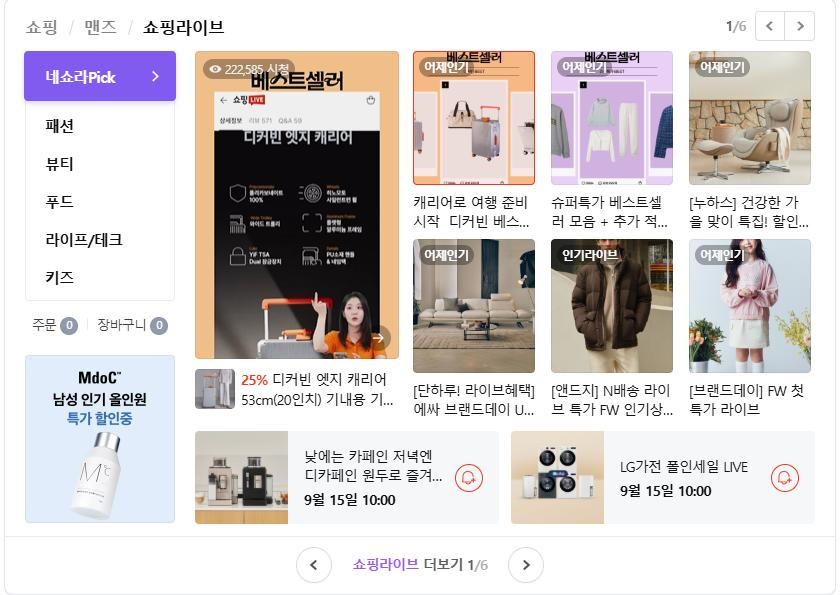button: (38, 45, 178, 96), (48, 102, 123, 138), (43, 228, 132, 253), (754, 13, 817, 43), (138, 13, 218, 36), (41, 191, 98, 220), (25, 318, 81, 343), (45, 148, 98, 174), (97, 315, 167, 334), (73, 14, 121, 36), (46, 265, 83, 291), (22, 13, 60, 38), (457, 465, 492, 488), (771, 463, 800, 487), (303, 553, 331, 577), (522, 559, 538, 577)
